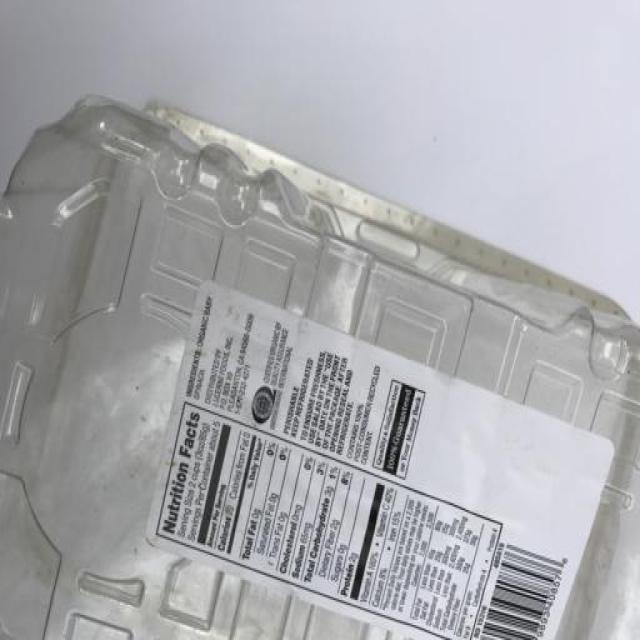Plastic: (0, 90, 640, 640)
